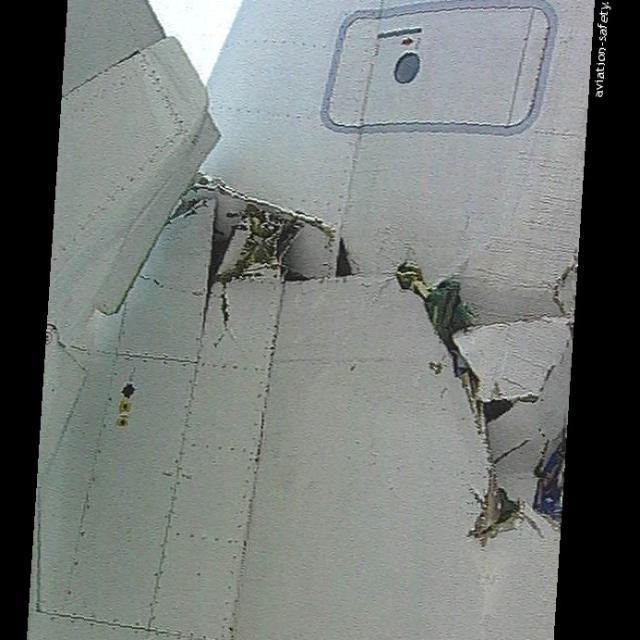crack: (160, 168, 548, 542)
